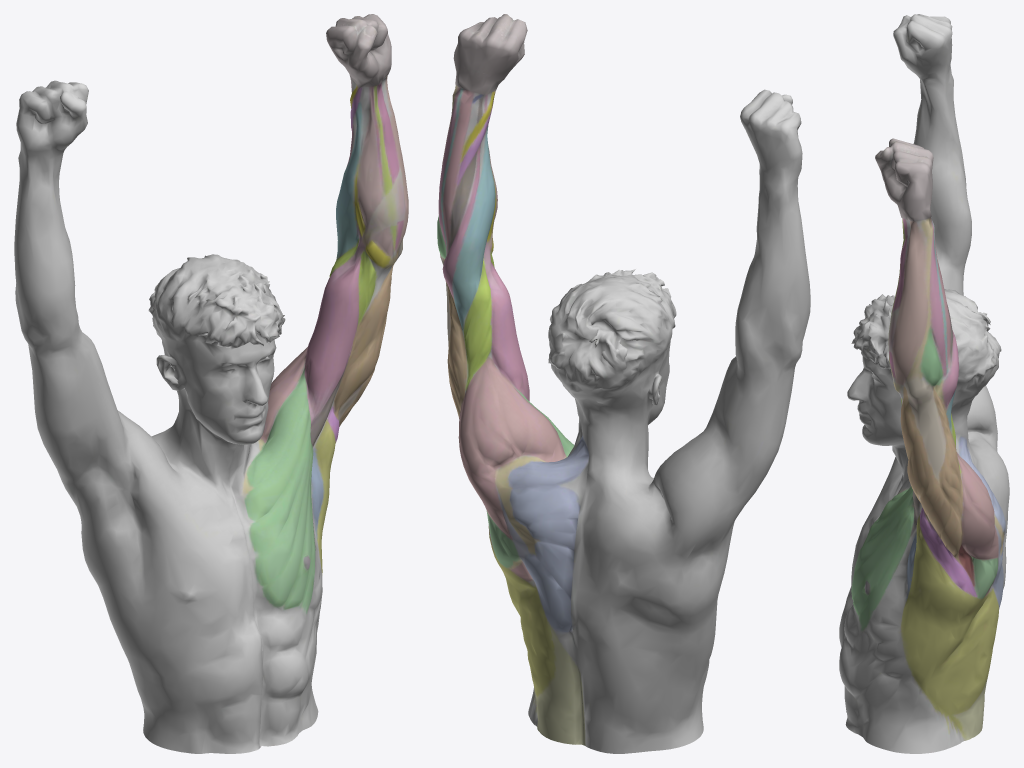
Rendered from 人物其它_20260324194559_opt.glb.
3 views of the same model, side by side, from view 1: azimuth 30°, elevation 25°; view 2: azimuth 150°, elevation 25°; view 3: azimuth 270°, elevation 25° (orthographic). The views are drawn at different scales.
Parts seen in each view (by area): view 1: Ralfs_V_Shell; view 2: Ralfs_V_Shell; view 3: Ralfs_V_Shell.
Boxes of the visible parts, <box> form: Ralfs_V_Shell: <box>14,14,408,753</box>; Ralfs_V_Shell: <box>437,14,810,753</box>; Ralfs_V_Shell: <box>839,14,1009,753</box>.
Bounding box in the file's own units: 0.5328 × 0.9154 × 0.2248.
Materials: 2 (1 with a texture image).
